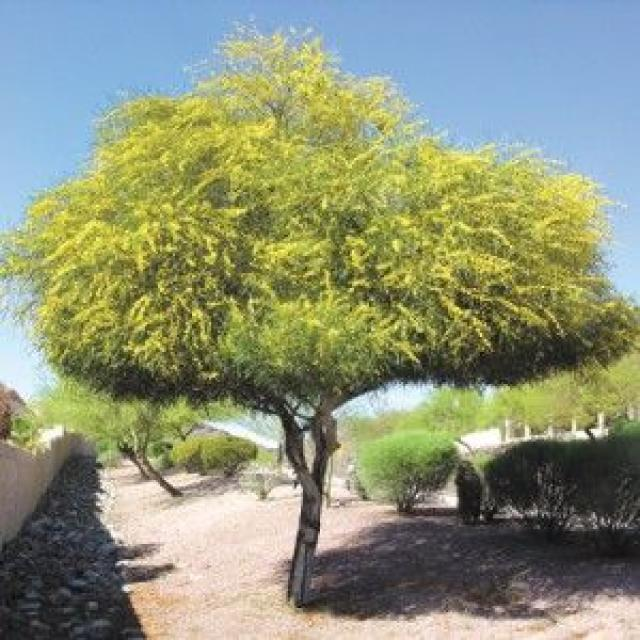Acacia: (16, 33, 609, 433)
